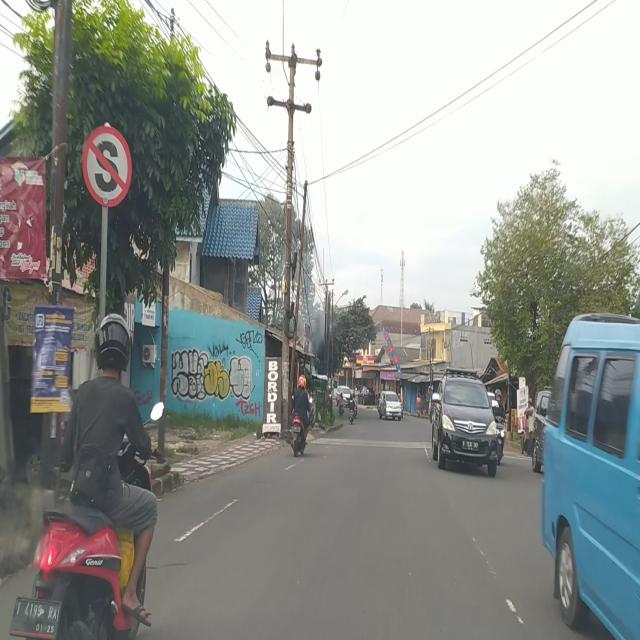Sewer Cover: (146, 561, 195, 573)
